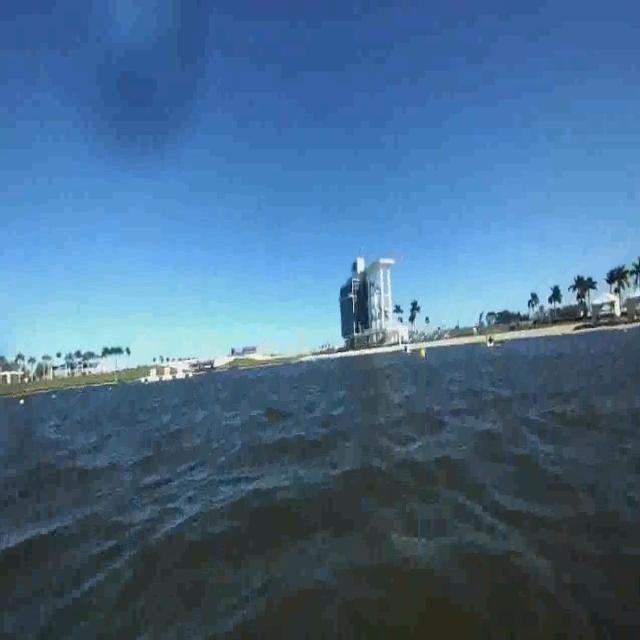yellow-buoy: (419, 347, 426, 361)
